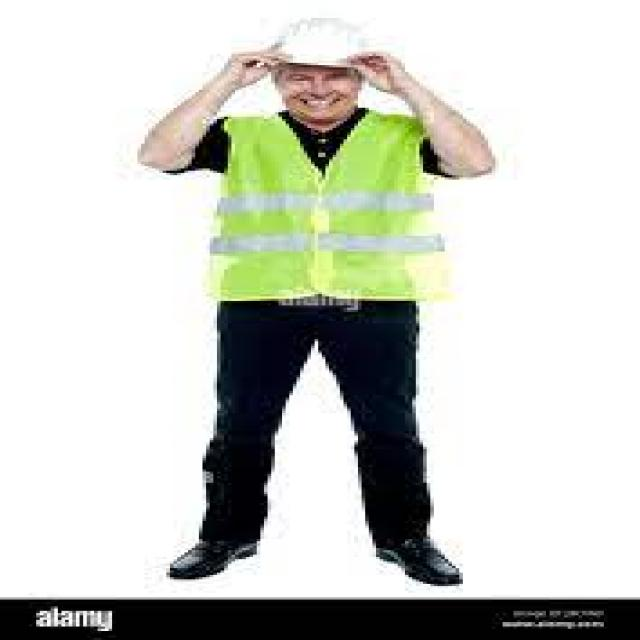Reflective-Jacket: (195, 110, 463, 312)
Safety-Helmet: (264, 9, 380, 72)
